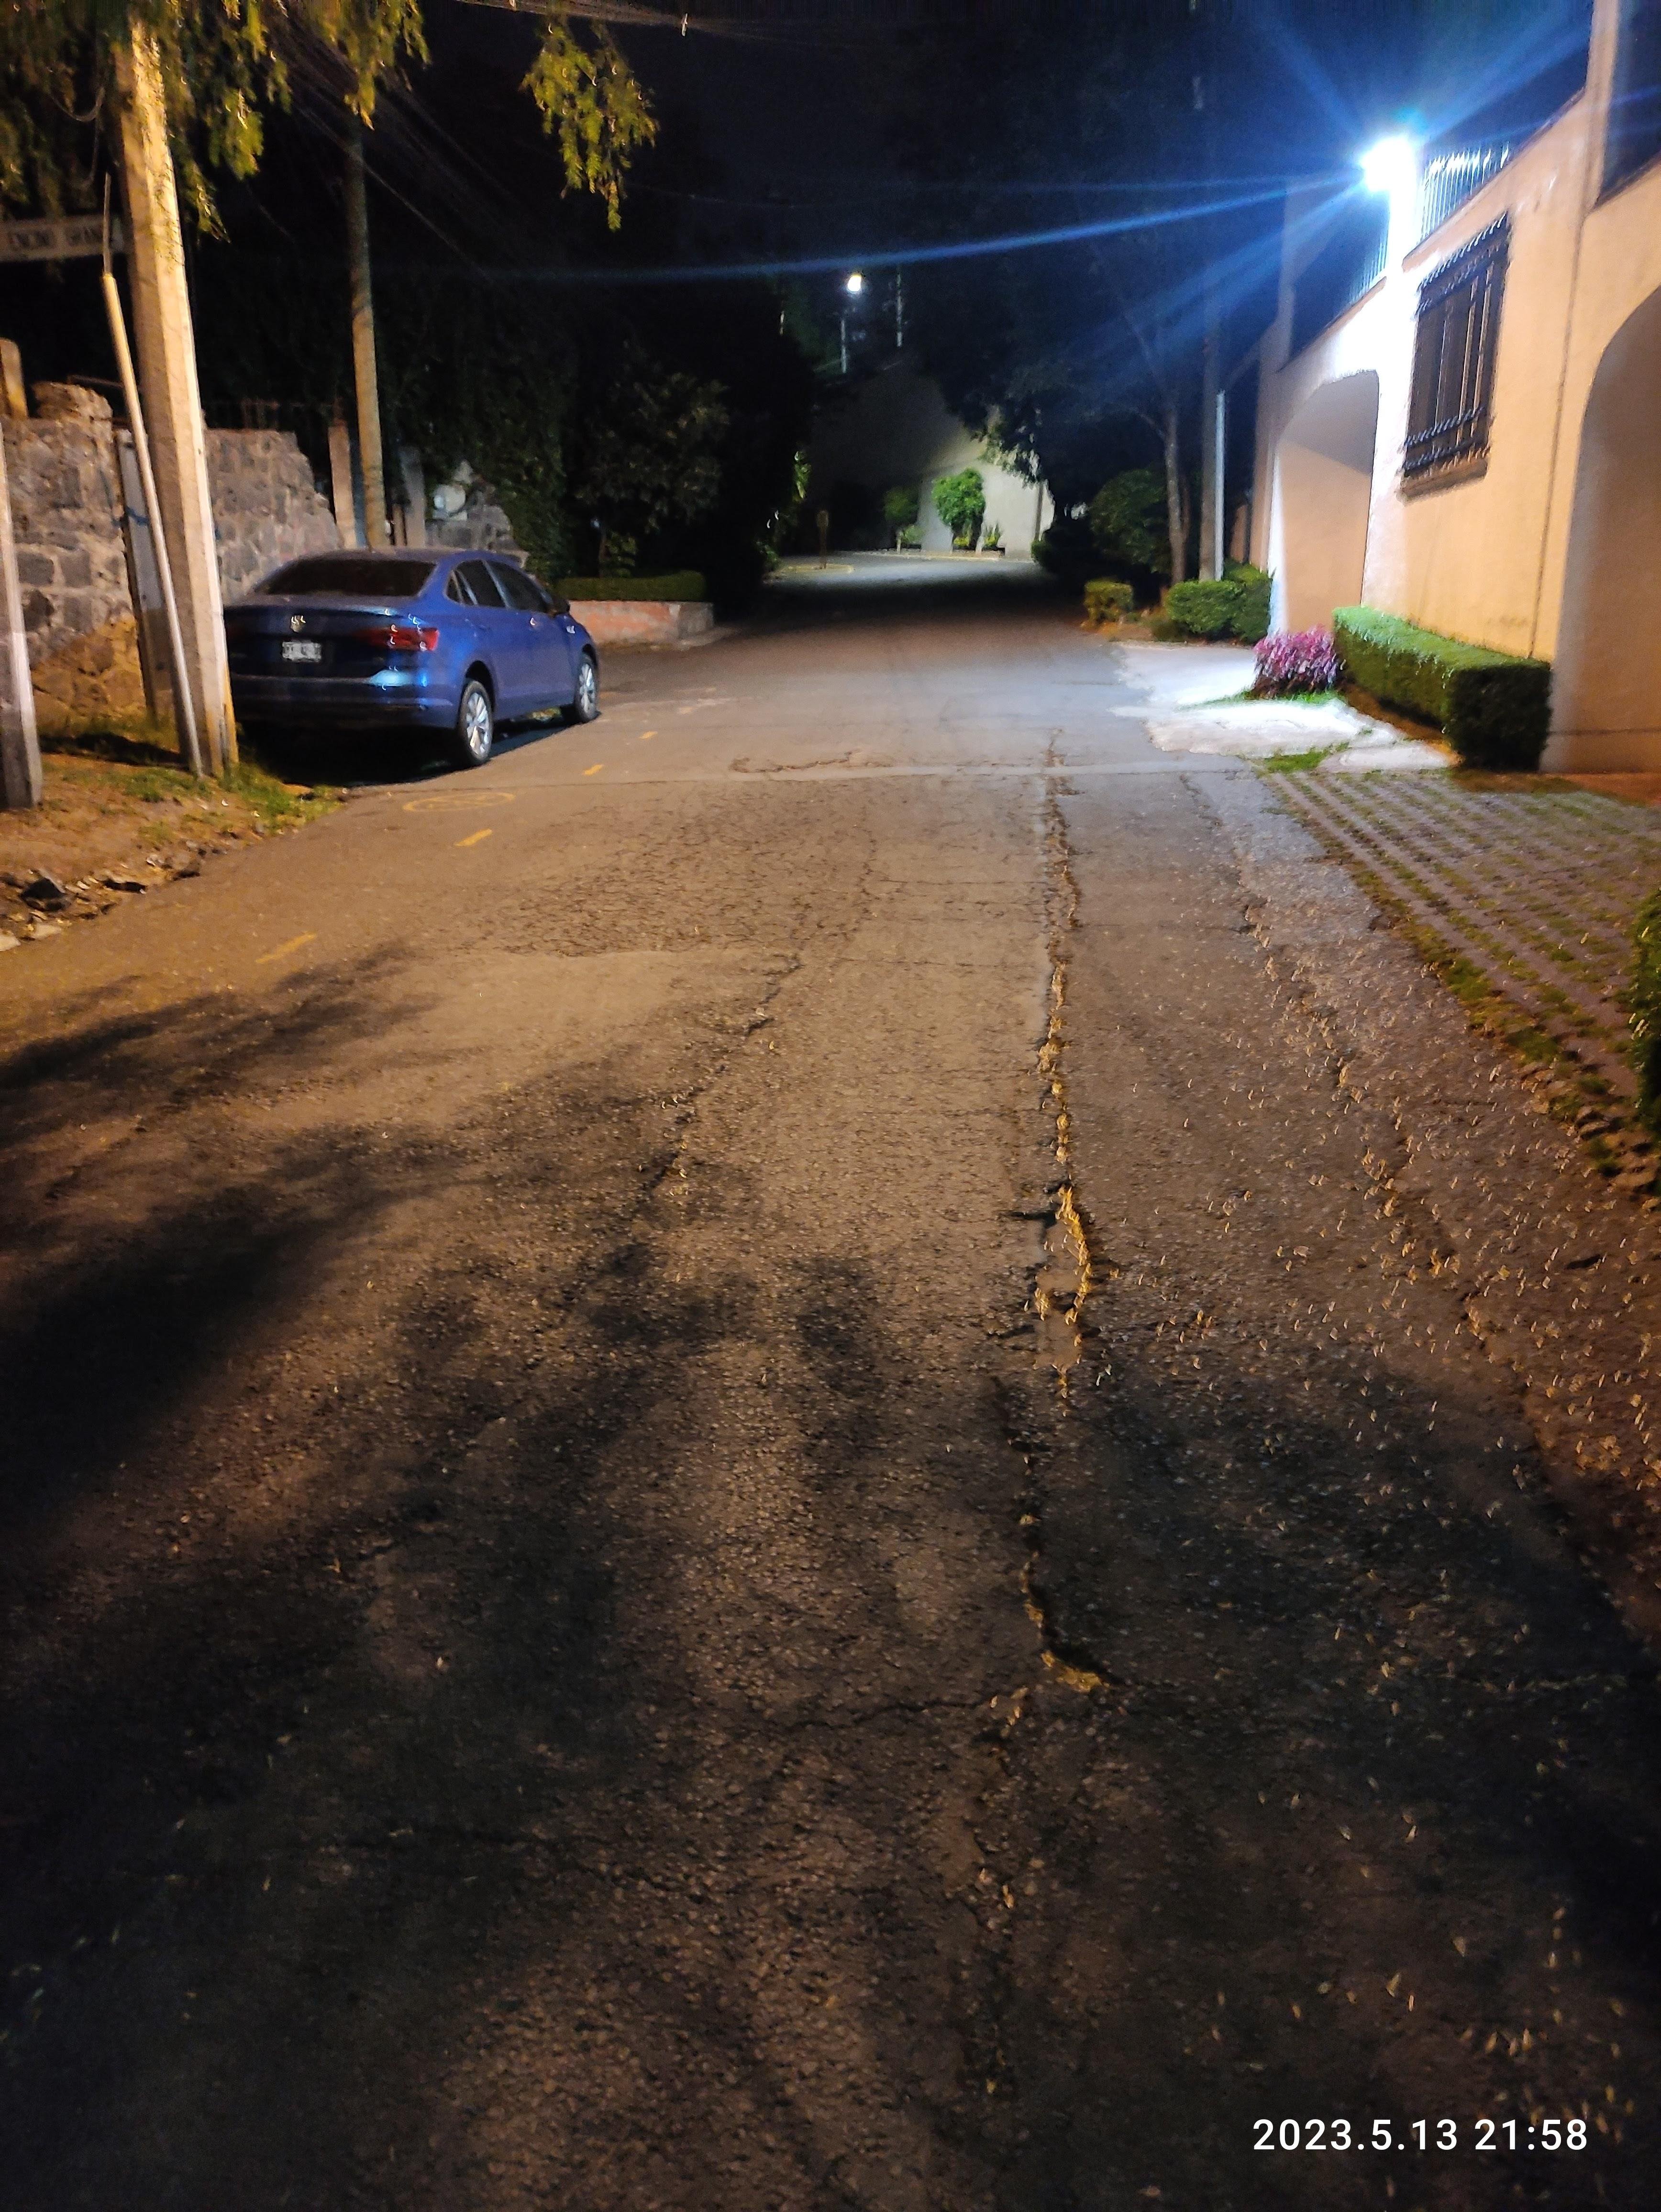pothole: (977, 700, 1134, 2212)
